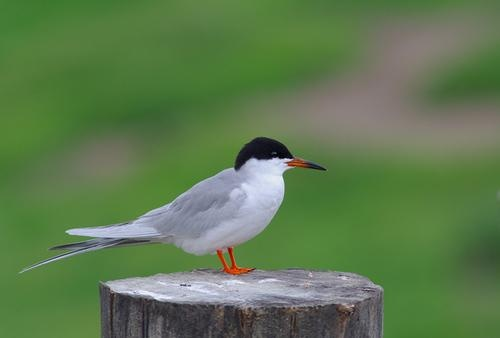bird: (15, 137, 329, 278)
